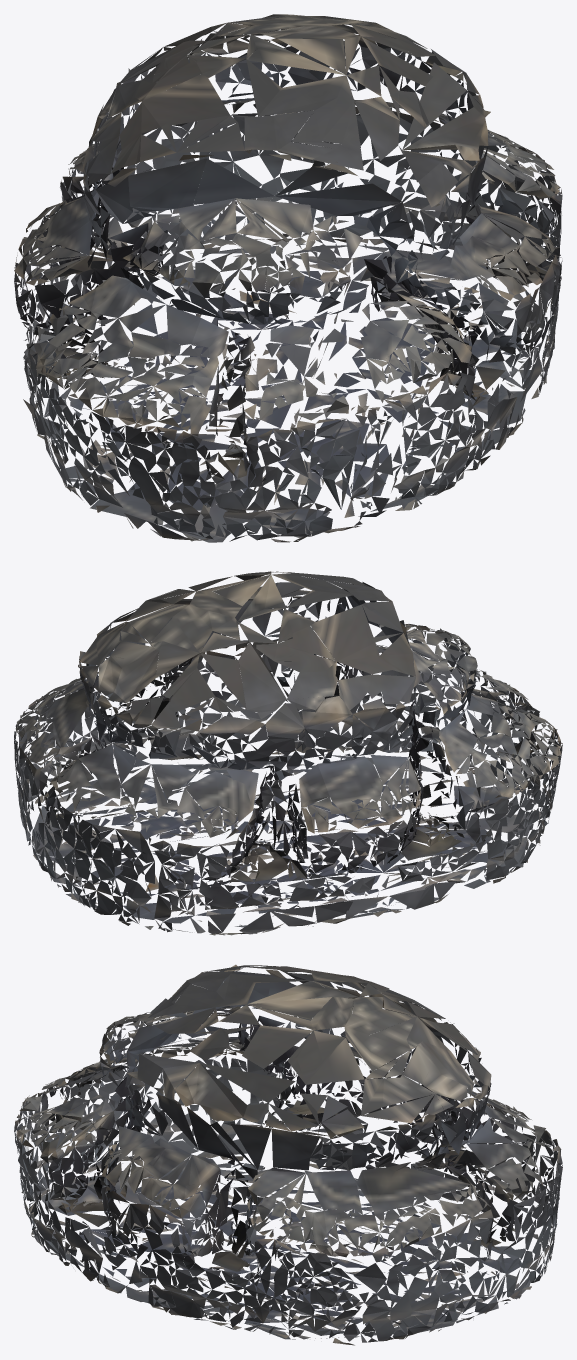
Rendered from scarab.glb.
The picture shows the model from 3 angles, top to bottom: view 1: azimuth 30°, elevation 25°; view 2: azimuth 150°, elevation 25°; view 3: azimuth 270°, elevation 25°; orthographic projection. The views are drawn at different scales.
Visible parts, largest first — view 1: Scarab; view 2: Scarab; view 3: Scarab.
Boxes of the visible parts, x1,y1,x2,y2 form: Scarab: (14,14,562,542); Scarab: (14,571,562,935); Scarab: (14,964,562,1345).
Size of the model in its own units: 0.4565 by 0.2603 by 0.4747.
1 material, 1 textured.
